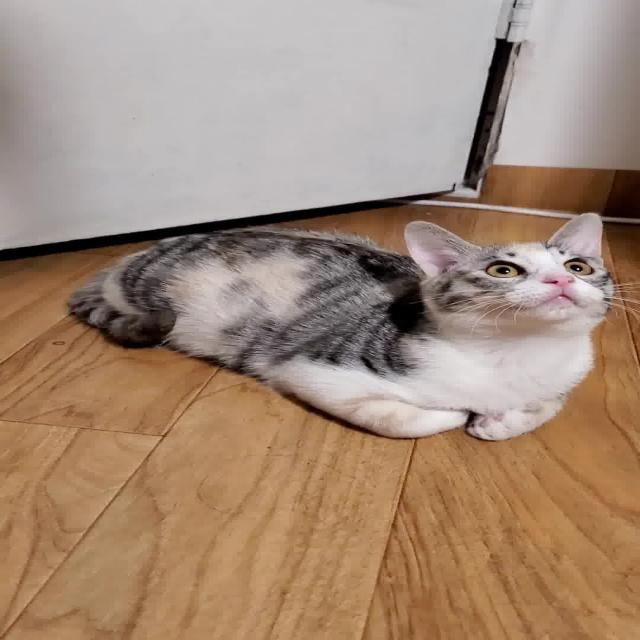cat: (61, 209, 628, 441)
